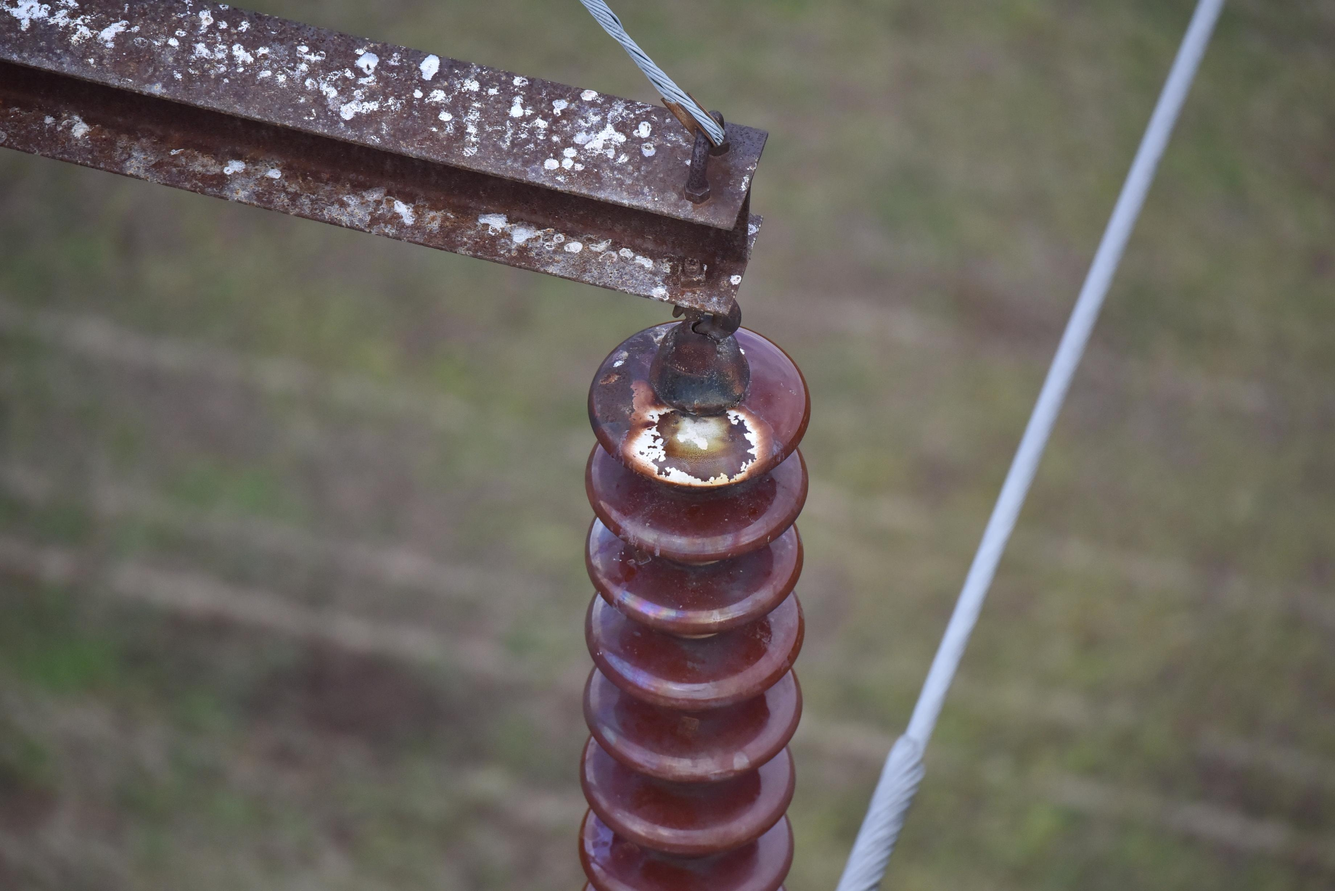Flashover: (629, 384, 780, 489)
insulator: (575, 313, 812, 891)
